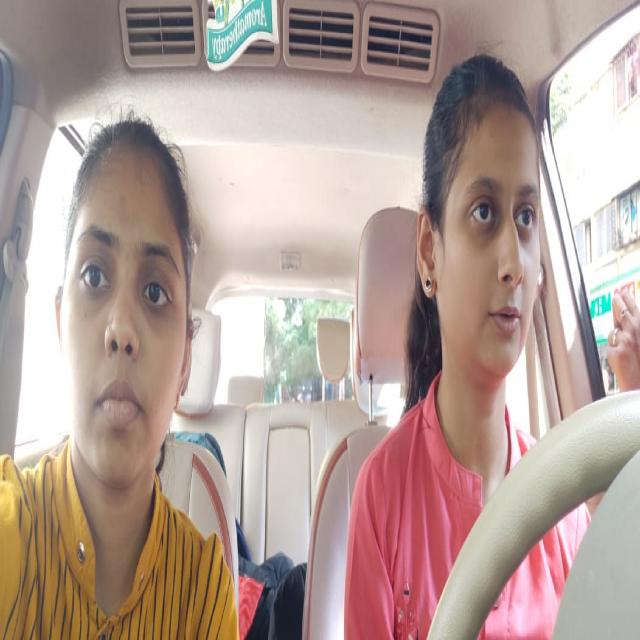person: (51, 106, 199, 486), (416, 45, 544, 421)
